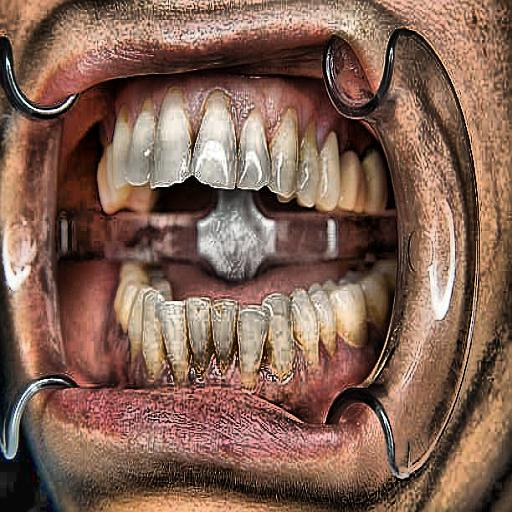Calculus: (98, 75, 400, 172), (152, 300, 400, 376)
